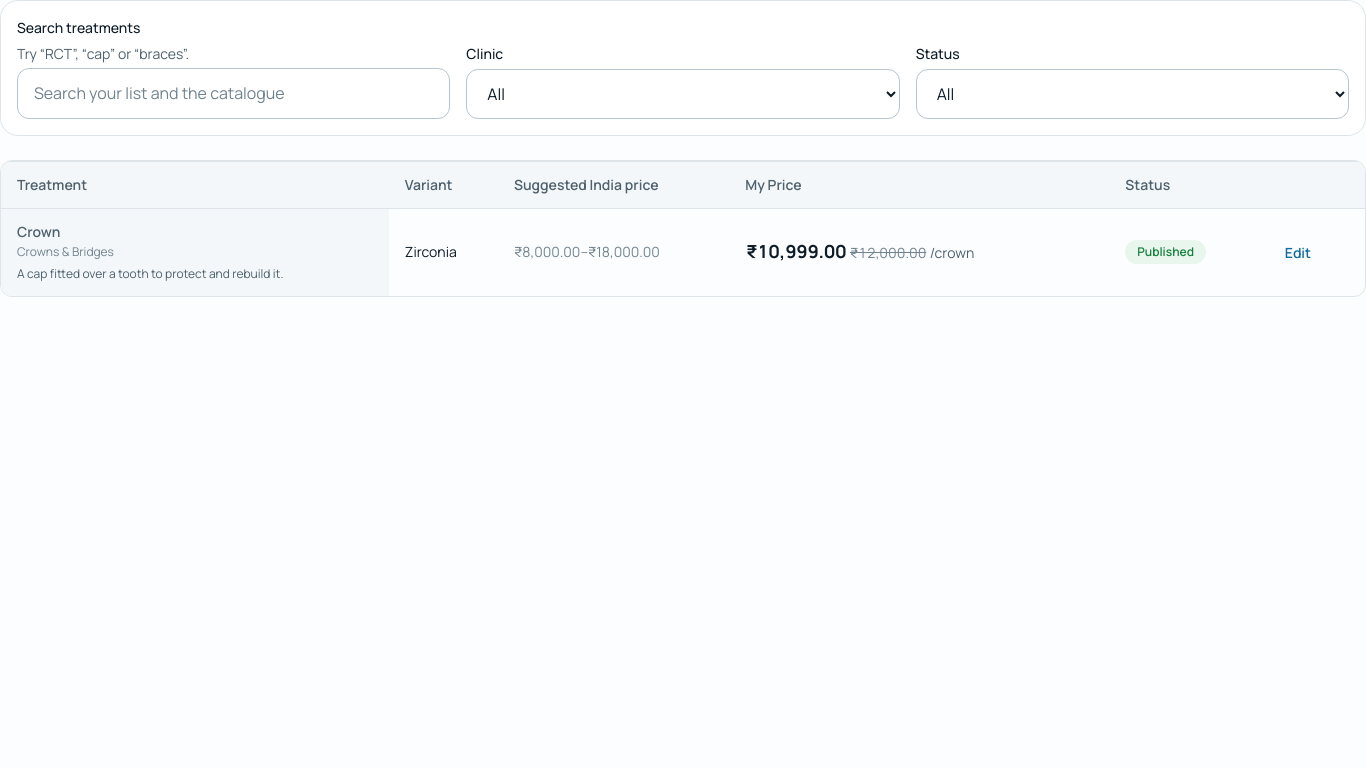
Scenario: editor › opens as a labelled modal dialog
This screenshot has width=1366, height=768.
Click the button "Edit". click: [1298, 252]
box: [1272, 234, 1324, 270]
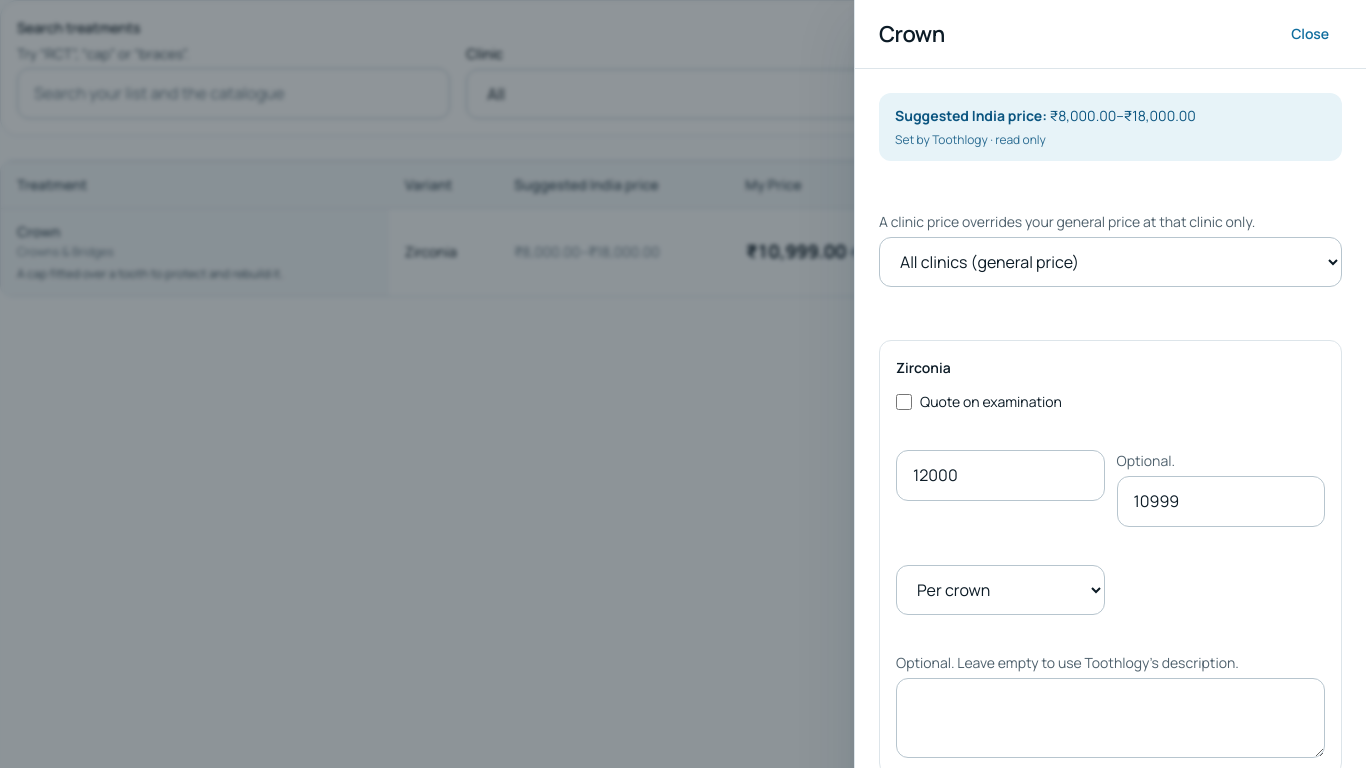
Check: the heading "Crown" is shown, box [879, 17, 945, 51]
